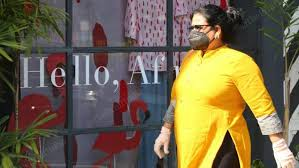mask: (183, 7, 223, 54)
